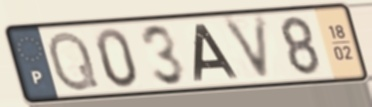0: (94, 25, 141, 91)
3: (139, 21, 188, 88)
8: (278, 14, 322, 77)
A: (192, 23, 242, 83)
Q: (46, 28, 103, 95)
V: (218, 12, 274, 85)
